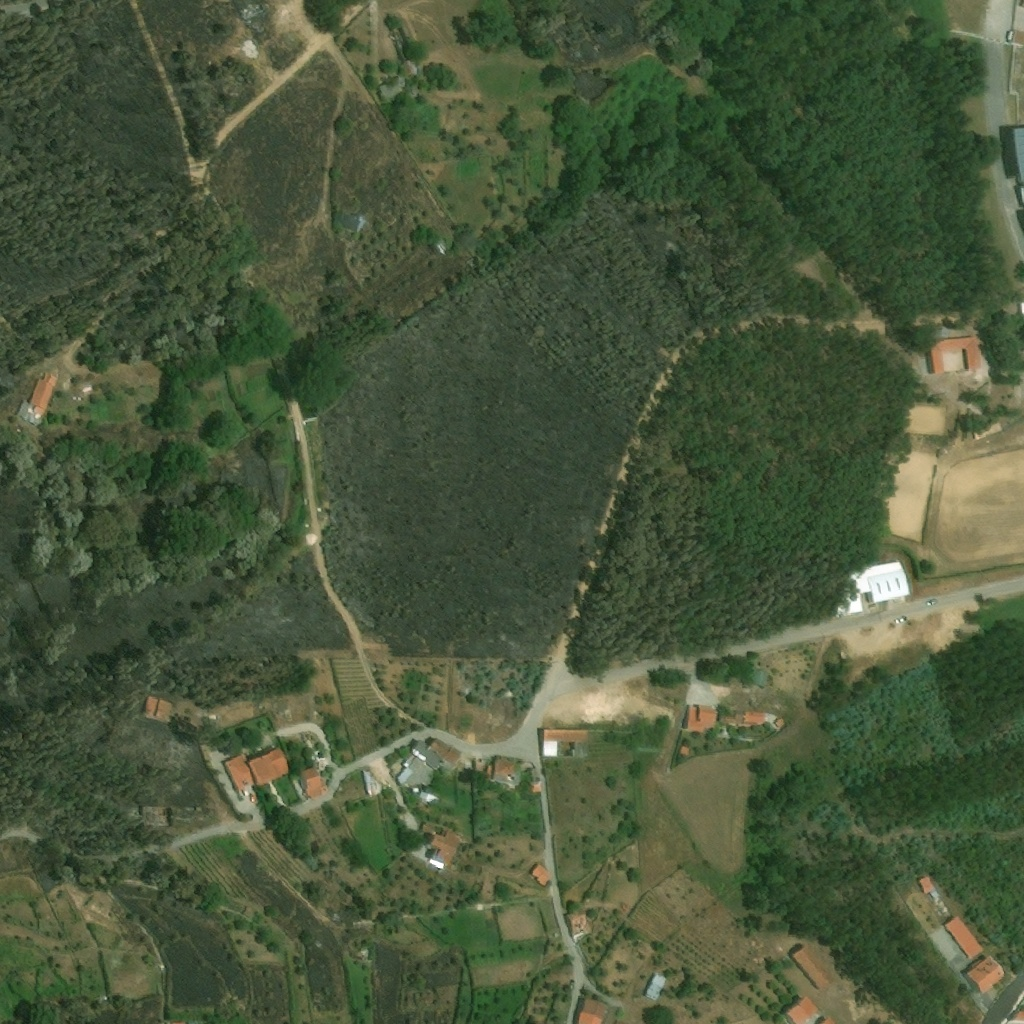0 no-damage: (396, 736, 463, 808), (833, 560, 912, 616), (222, 744, 292, 791), (17, 371, 58, 429), (788, 945, 836, 990), (929, 336, 981, 373), (942, 916, 984, 960), (964, 954, 1007, 994), (535, 727, 590, 758), (425, 828, 459, 868), (781, 994, 823, 1023), (488, 754, 521, 787), (301, 766, 329, 801), (719, 709, 766, 728), (684, 705, 717, 732), (565, 912, 593, 940), (643, 971, 668, 1002), (575, 999, 607, 1023), (331, 210, 362, 232), (529, 862, 552, 887), (364, 770, 382, 796), (747, 668, 767, 686), (381, 84, 402, 100), (918, 875, 934, 893), (772, 716, 784, 729), (678, 746, 690, 757)
3 destroyed: (138, 804, 177, 829), (244, 3, 267, 19)
4 un-classified: (1014, 128, 1023, 199), (1012, 29, 1023, 46), (1014, 1012, 1023, 1021)
